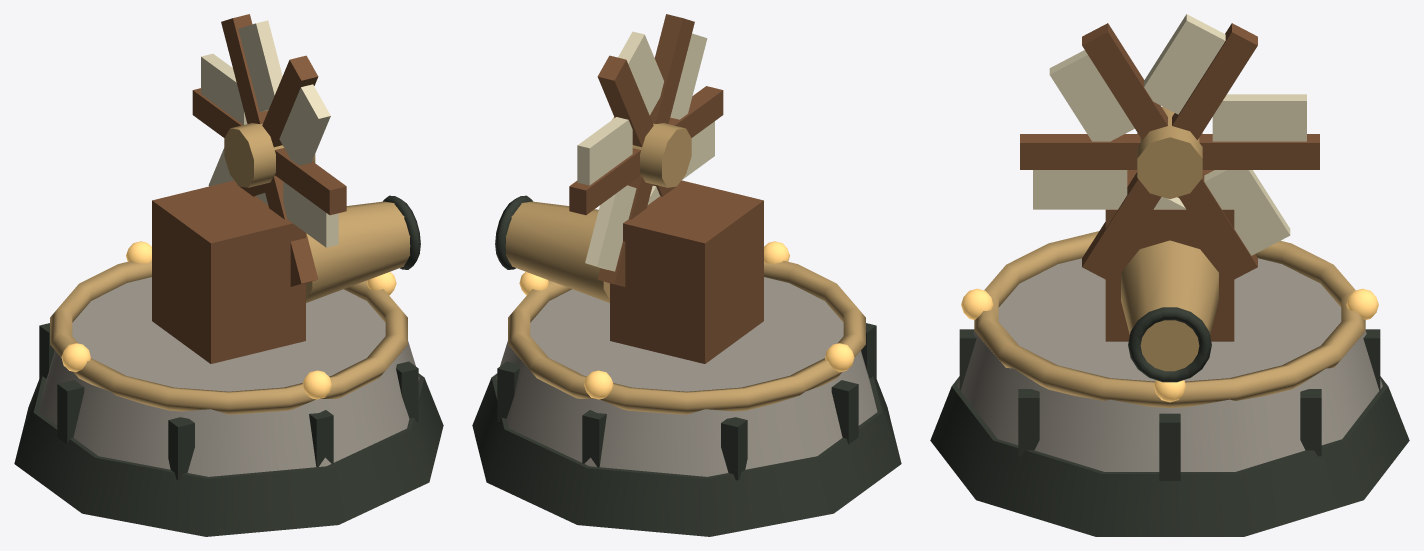
Rendered from tower_wind_windRotor.glb.
3 views of the same model, side by side, from view 1: azimuth 30°, elevation 25°; view 2: azimuth 150°, elevation 25°; view 3: azimuth 270°, elevation 25° (orthographic). The views are drawn at different scales.
Visible parts, largest first — view 1: stone_1, foot_0, mill_15, rim_2, air_nozzle_29, hub_16, sail_22, spar_23, sail_20, spar_21, sail_24, sail_18 (+11 smaller); view 2: stone_1, foot_0, mill_15, rim_2, air_nozzle_29, hub_16, spar_21, sail_18, spar_19, sail_28, spar_17, sail_20 (+12 smaller); view 3: stone_1, foot_0, rim_2, air_nozzle_29, mill_15, sail_18, sail_20, hub_16, spar_23, sail_28, sail_22, spar_21 (+13 smaller).
Part boxes in pixels (x1,y1,x2,y2): stone_1: (38,277,419,476); foot_0: (14,373,443,536); mill_15: (152,180,305,363); rim_2: (50,261,407,414); air_nozzle_29: (306,201,410,302); hub_16: (224,123,315,187); sail_22: (279,84,330,165); spar_23: (274,148,346,215); sail_20: (238,20,282,112); spar_21: (262,55,318,147); sail_24: (283,181,338,247); sail_18: (201,53,247,124); stone_1: (496,277,877,476); foot_0: (472,373,901,536); mill_15: (610,180,763,363); rim_2: (508,261,865,414); air_nozzle_29: (505,201,609,302); hub_16: (612,117,691,187); spar_21: (650,14,694,123); sail_18: (577,117,632,185); spar_19: (597,55,653,147); sail_28: (585,185,636,271); spar_17: (569,148,641,215); sail_20: (618,31,664,115); stone_1: (957,258,1382,471); foot_0: (930,376,1409,536); rim_2: (974,231,1365,408); air_nozzle_29: (1121,240,1218,371); mill_15: (1105,170,1234,341); sail_18: (1212,94,1306,141); sail_20: (1144,14,1225,114); hub_16: (1137,106,1202,198); spar_23: (1020,134,1140,169); sail_28: (1204,170,1290,255); sail_22: (1049,50,1134,141); spar_21: (1082,23,1167,139).
Bounding box in the file's own units: 0.5326 × 0.5736 × 0.56.
